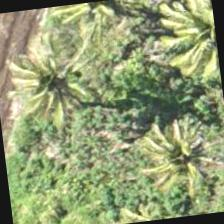Kelapa_Sawit: (0, 29, 98, 130), (129, 112, 223, 213), (60, 0, 156, 54), (160, 0, 221, 82)
